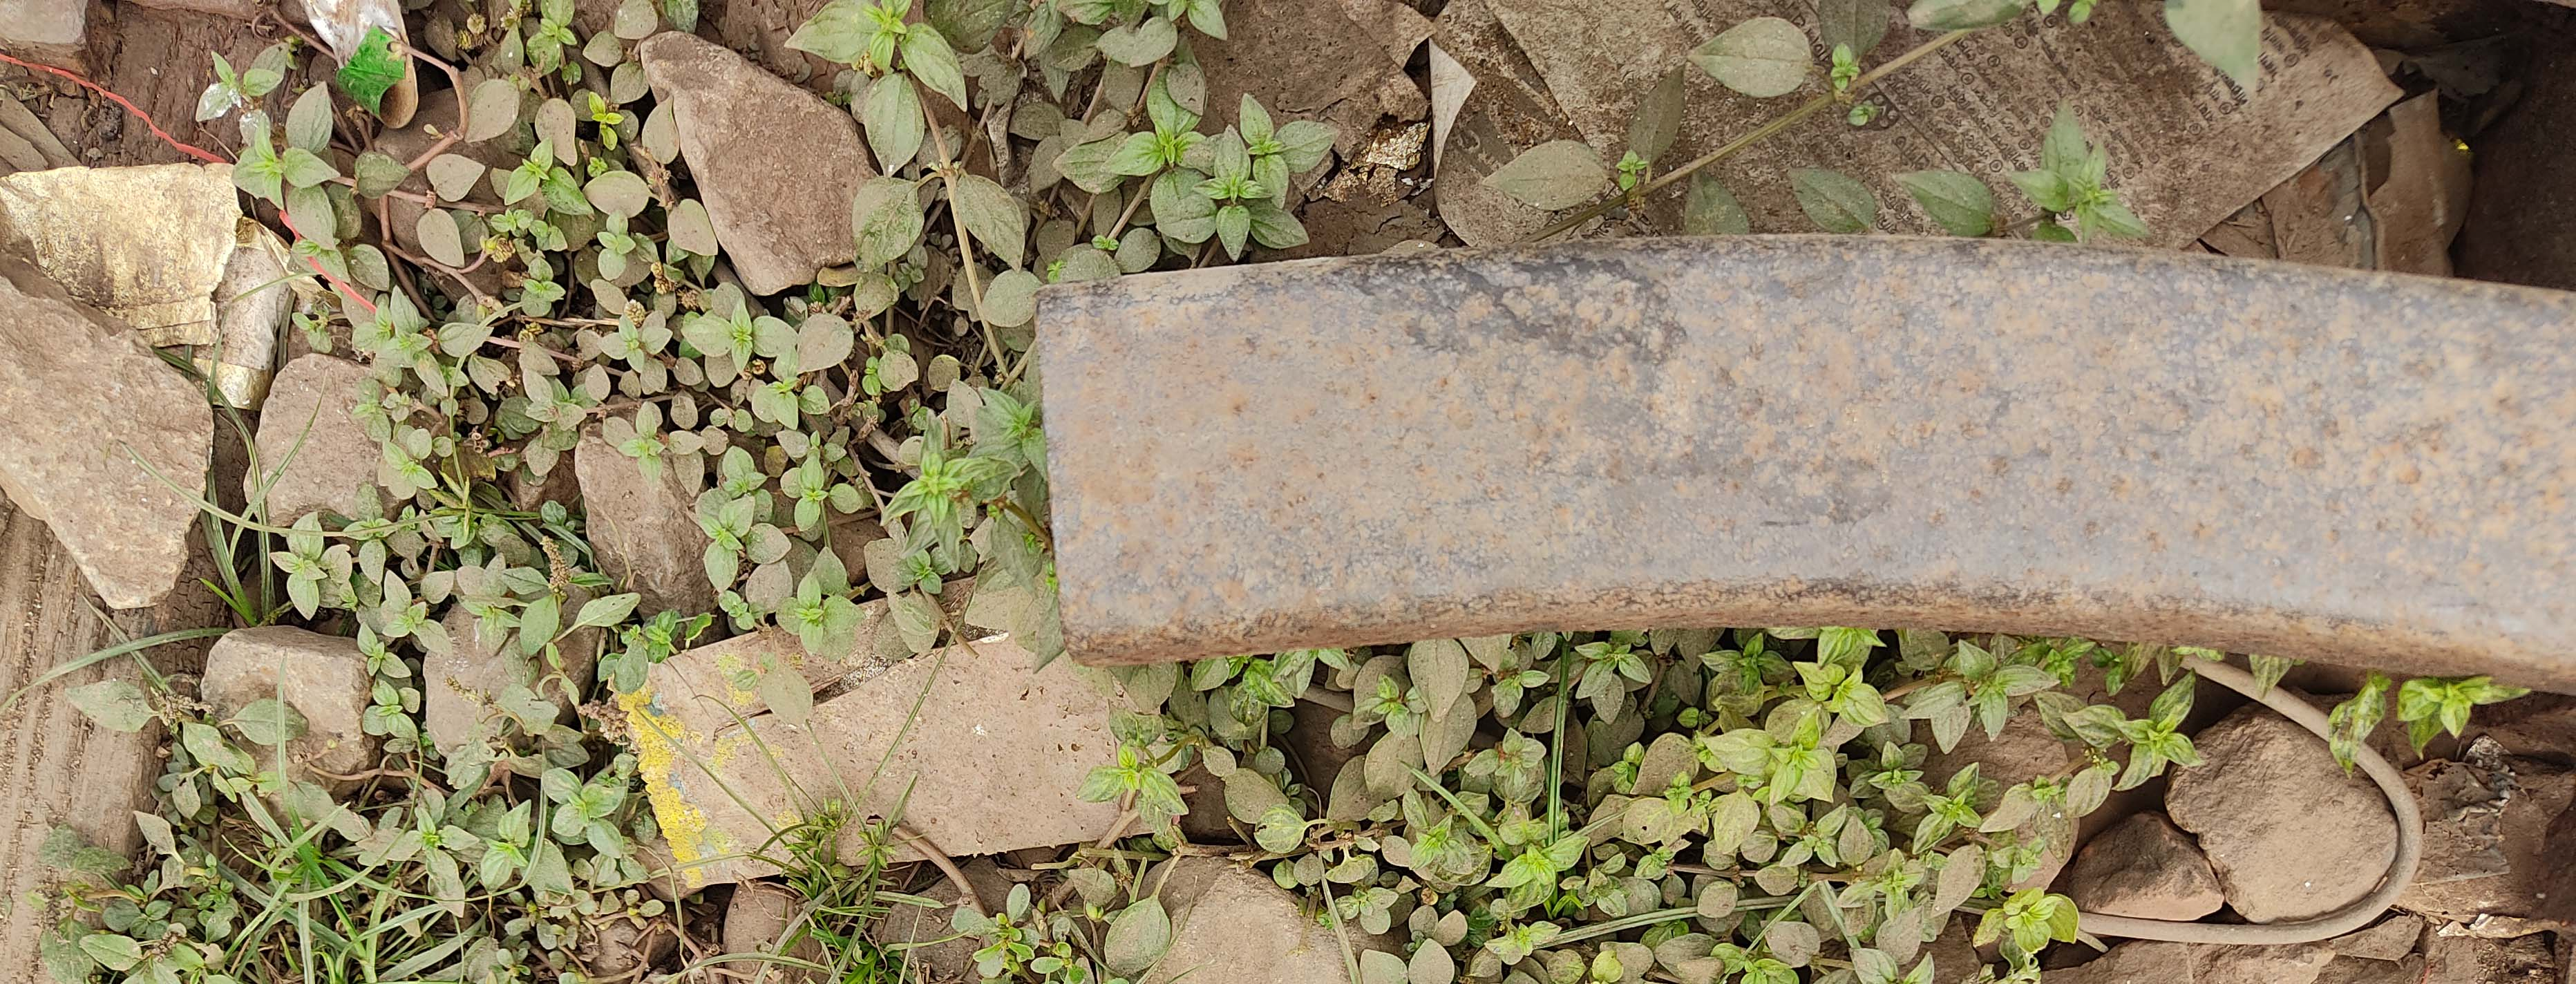error2: (950, 210, 1181, 664)
